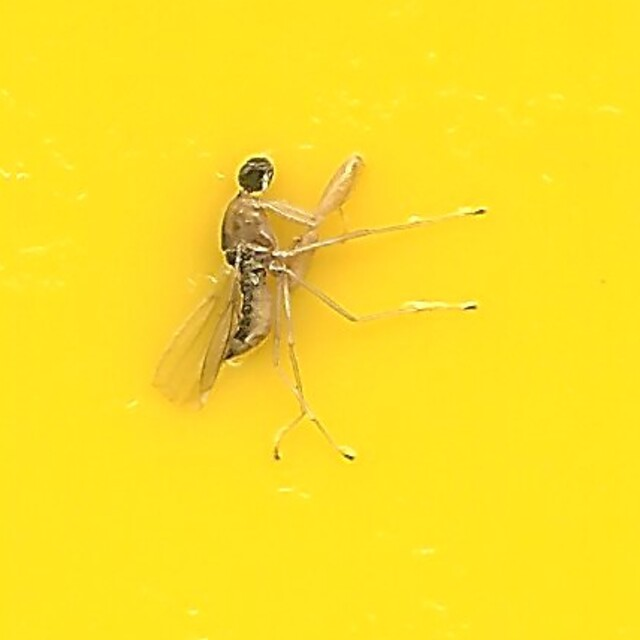Brachycera: (150, 153, 490, 487)
